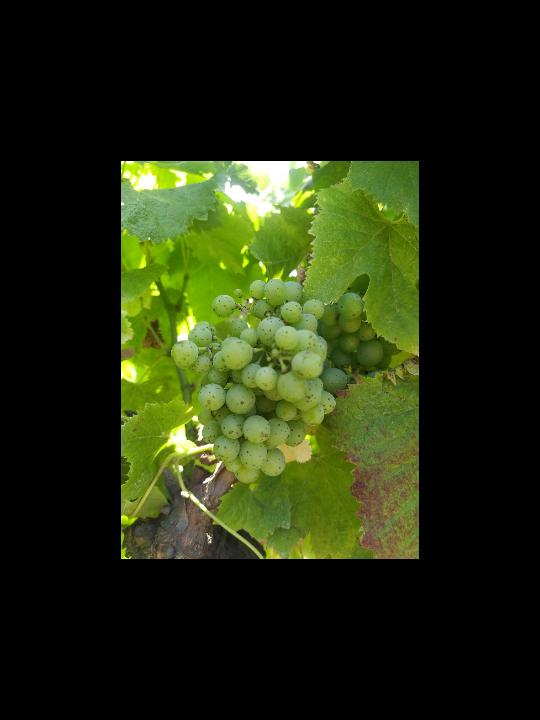grape: (172, 277, 338, 485)
